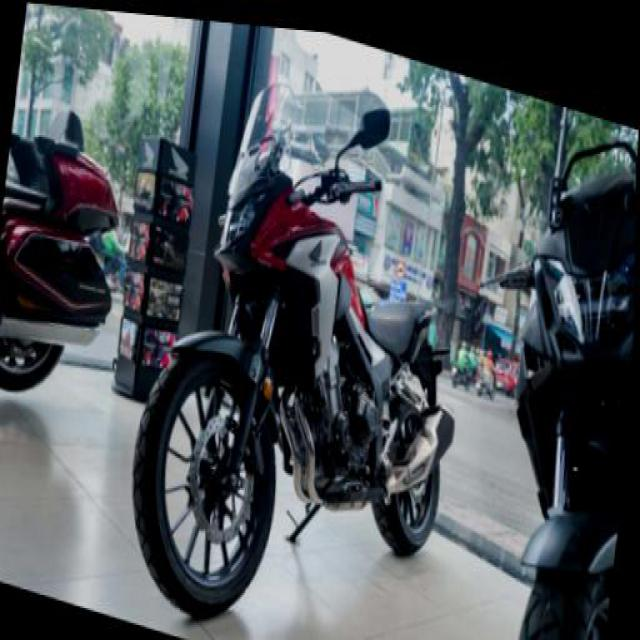CB500X: (116, 43, 485, 638)
